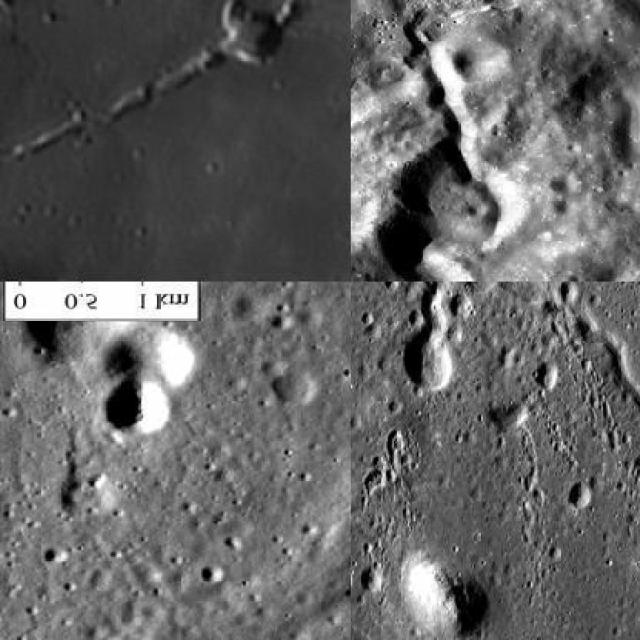rille: (0, 0, 349, 240), (376, 0, 598, 280), (126, 457, 349, 638), (558, 282, 638, 638)
